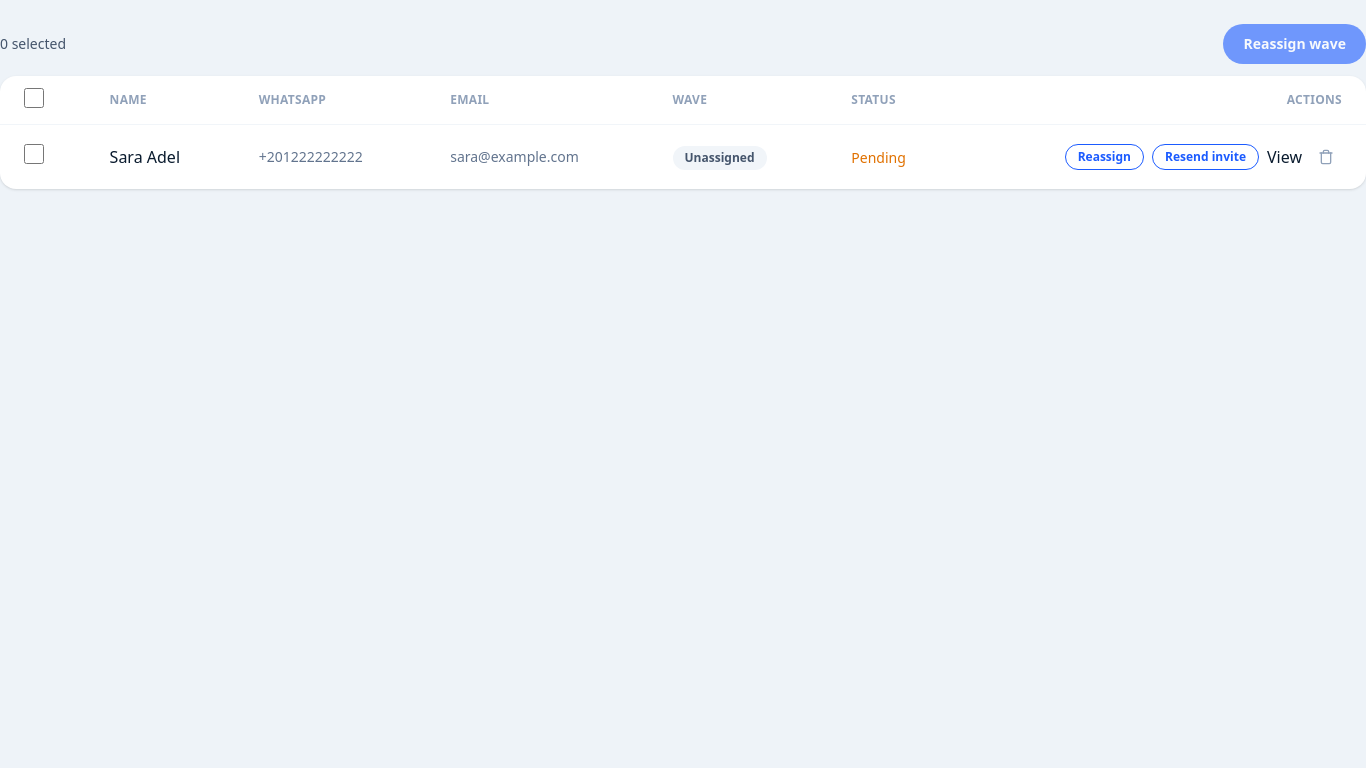
Test: MemberTable — reassign selection › keeps the modal open and shows the error returned by the action
Click the button "Reassign": (1104, 157) [1065,144,1144,170]
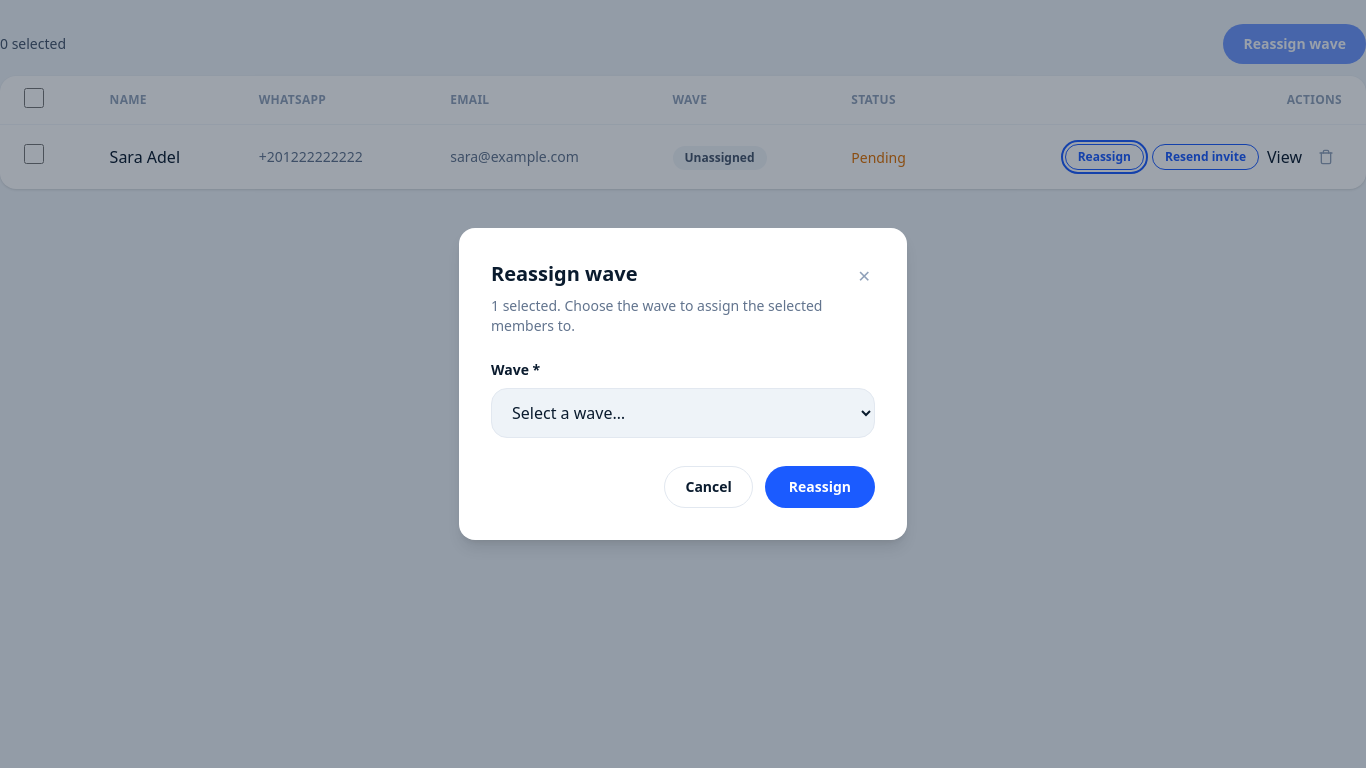
Select "Online" in the dropdown labelled "Wave *": (683, 413) [491,388,875,438]
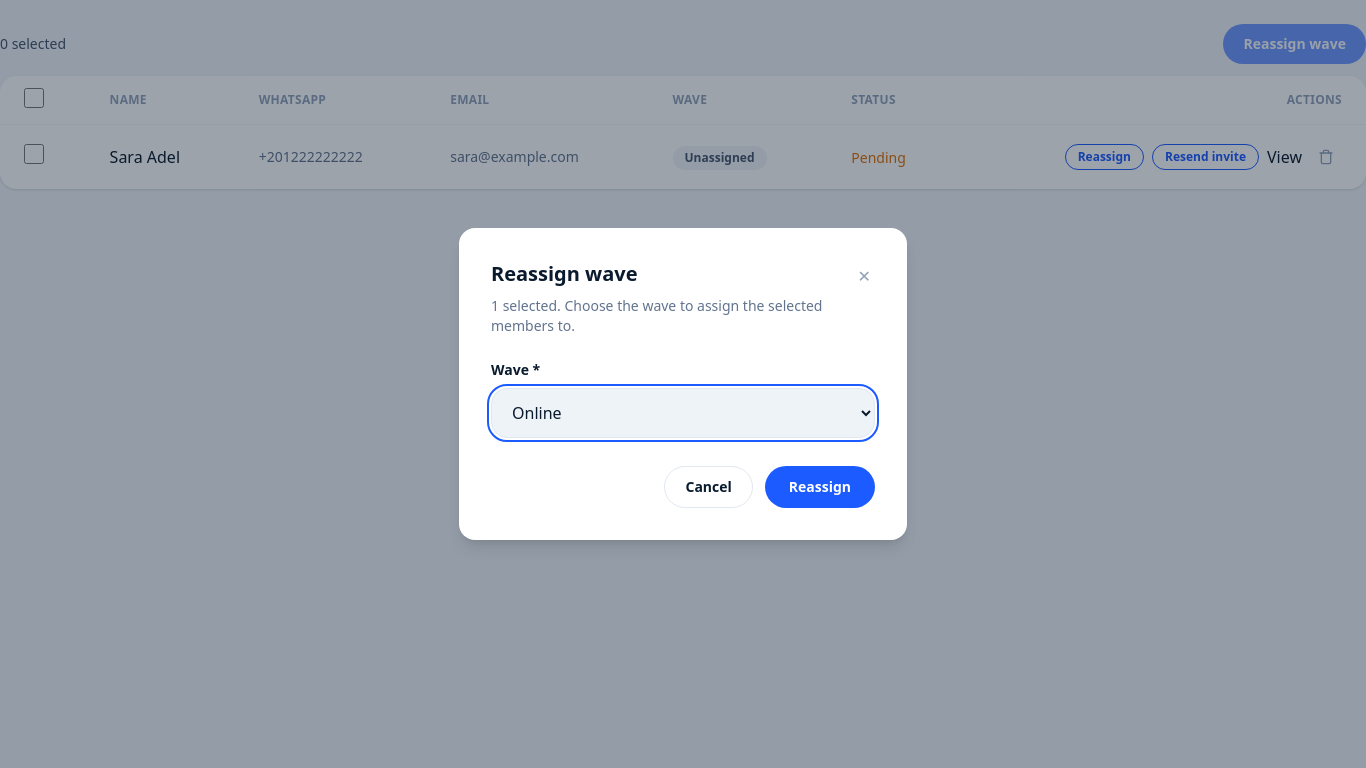
Click the button "Reassign": (820, 487) [765,466,875,508]
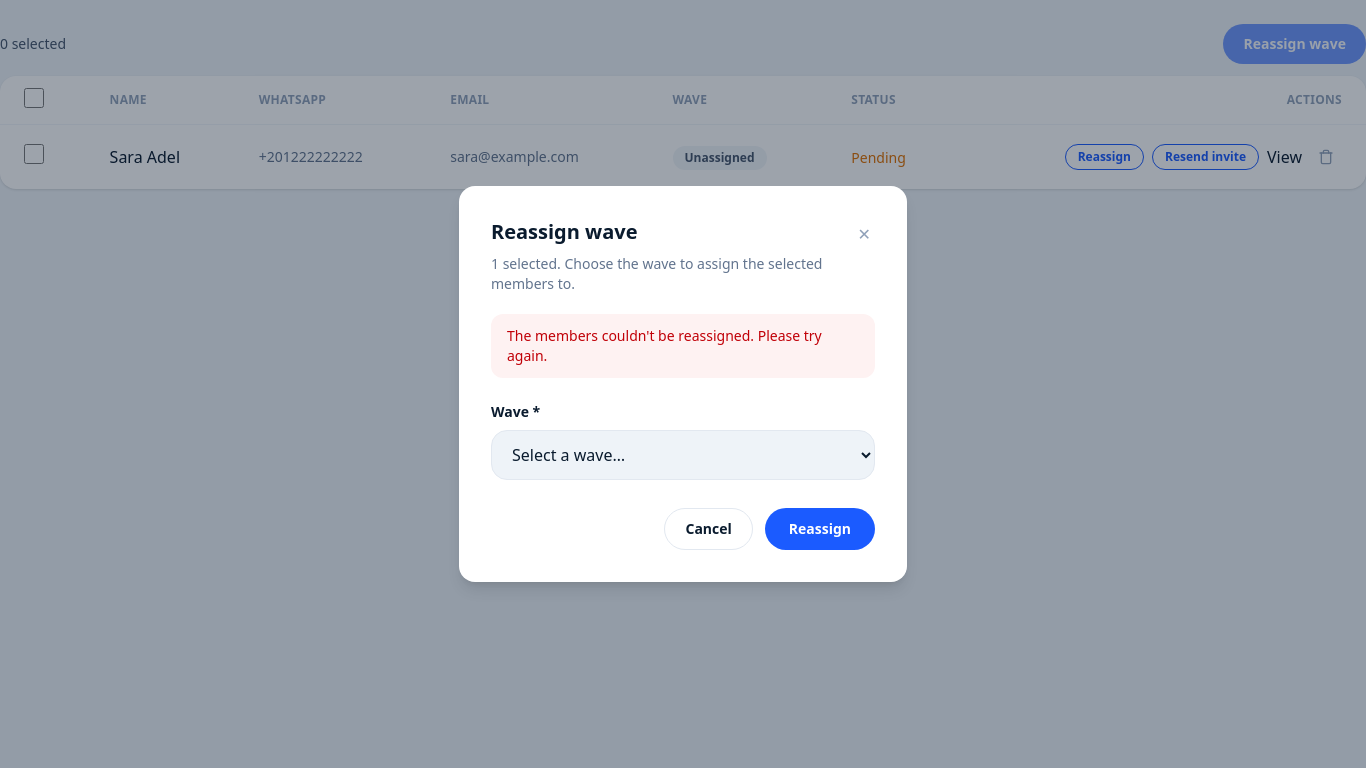
Expected: the message reads "The members couldn't be reassigned. Please try again.", [507,326,822,365]
